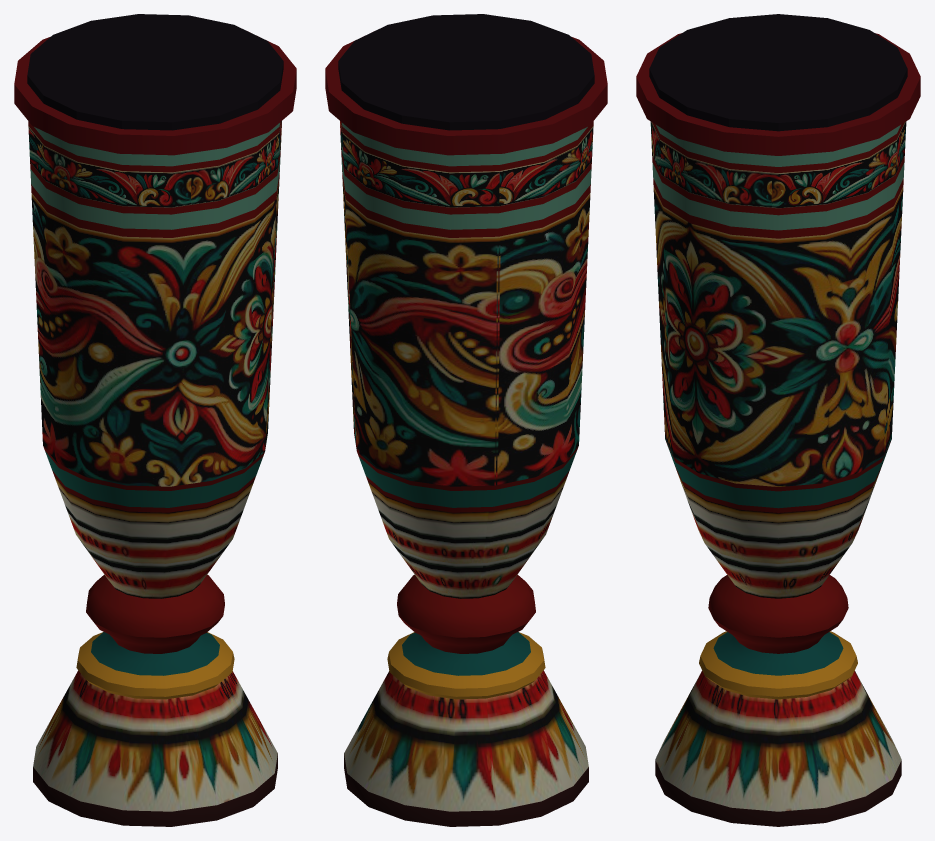
File: tabo.glb
3 views of the same model, side by side, from view 1: azimuth 30°, elevation 25°; view 2: azimuth 150°, elevation 25°; view 3: azimuth 270°, elevation 25° (orthographic).
Parts seen in each view (by area): view 1: tabo; view 2: tabo; view 3: tabo.
Part boxes in pixels (left/top/right/bottom): tabo: left=14, top=14, right=296, bottom=826; tabo: left=325, top=14, right=607, bottom=826; tabo: left=636, top=14, right=920, bottom=826.
Size of what is drawn, in the model's own units: 1.17 by 3.2 by 1.17.
1 material, 1 textured.
